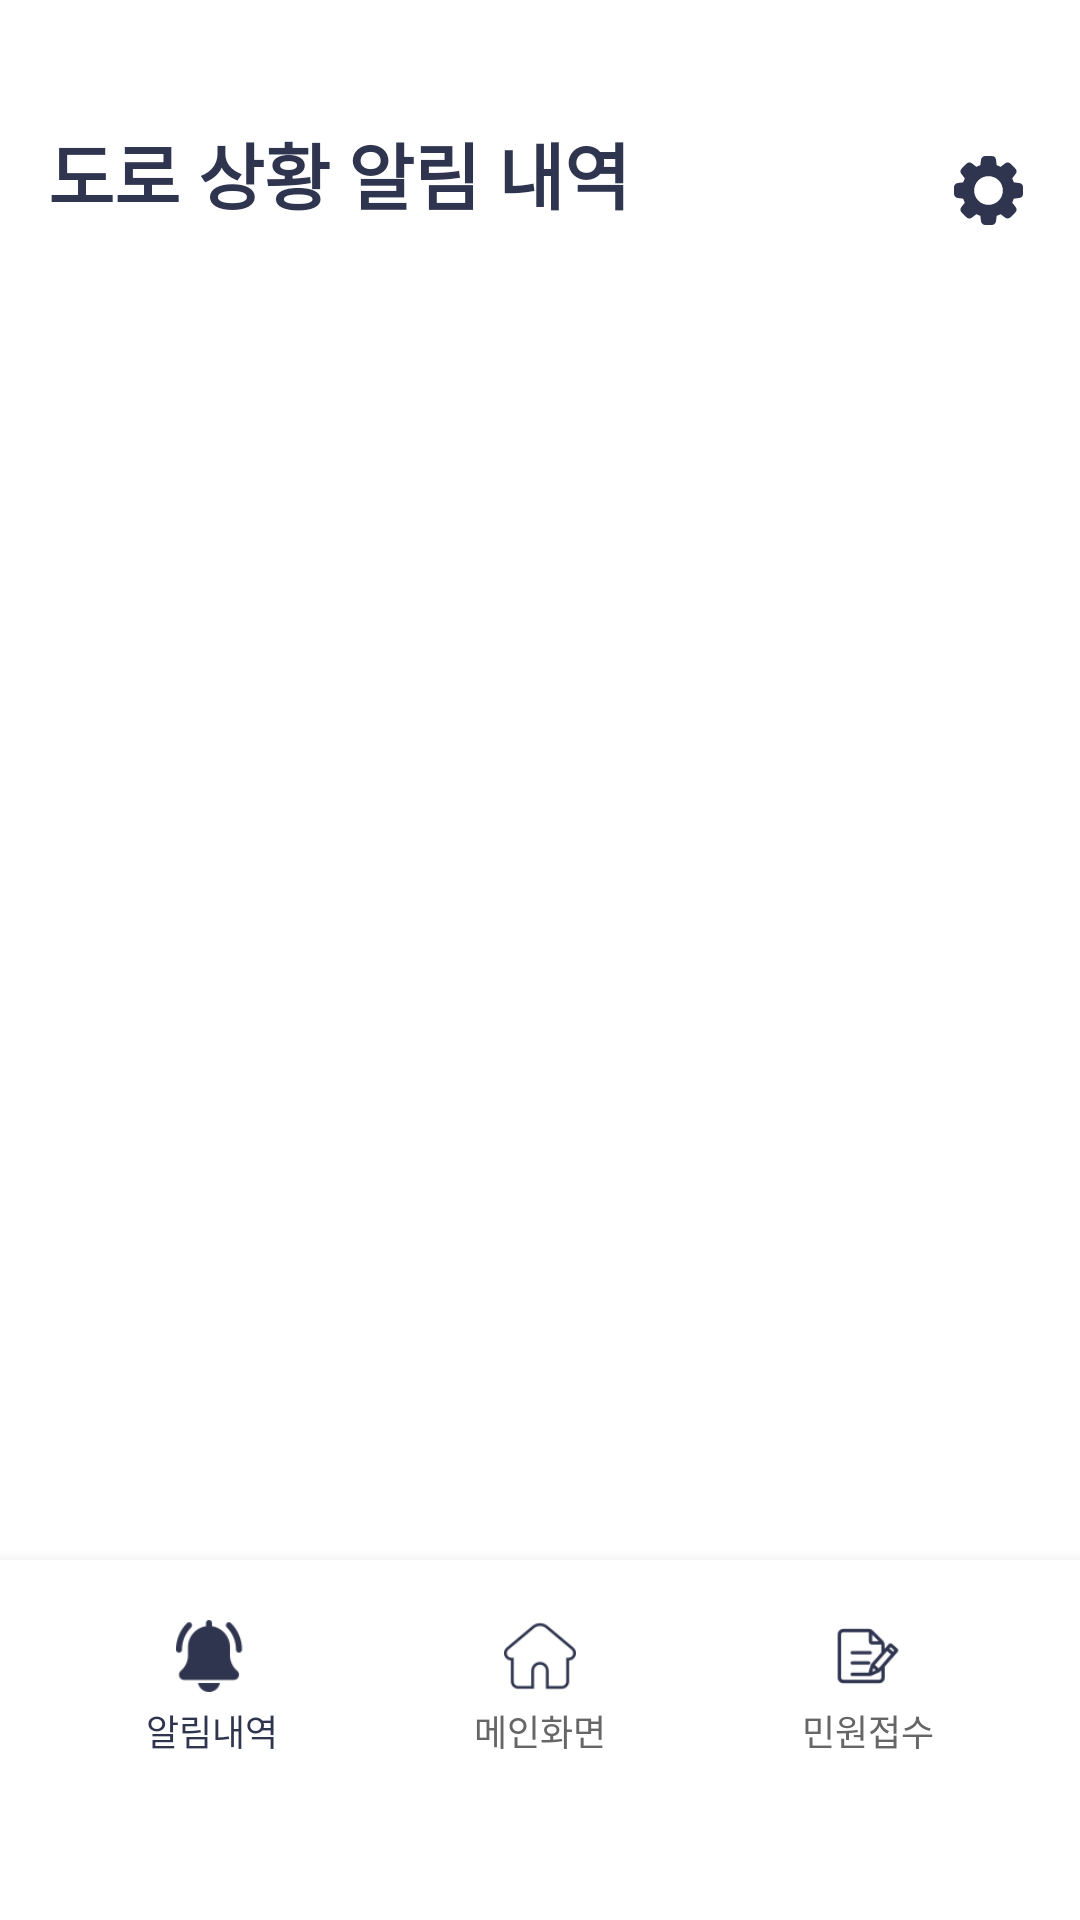

Where icons sit on this 1080*1920 app screen, as BBox(x1, y1, x2, y2):
settings: BBox(954, 156, 1023, 225)
